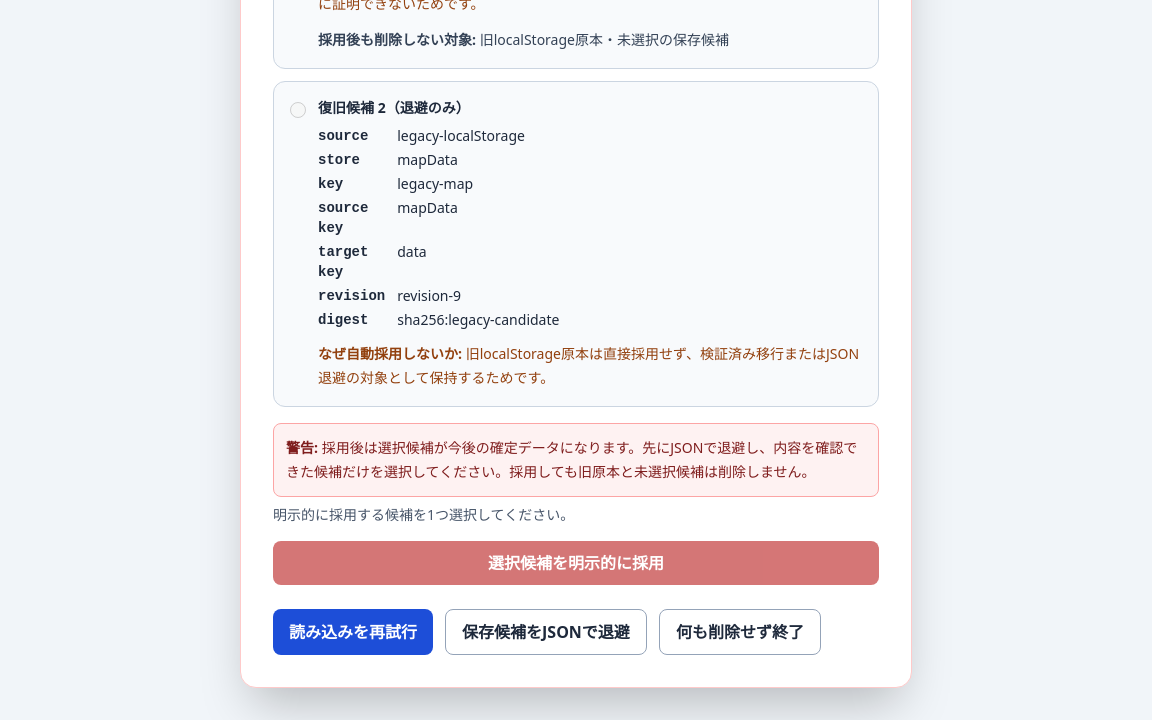
PersistenceRecoveryScreen › 何も削除せず終了してもblocking画面を保ち、タブを閉じる案内だけを示す
(page scrolled)
Click the button "何も削除せず終了": [740, 632] box top-left (659, 609), bottom-right (821, 655)
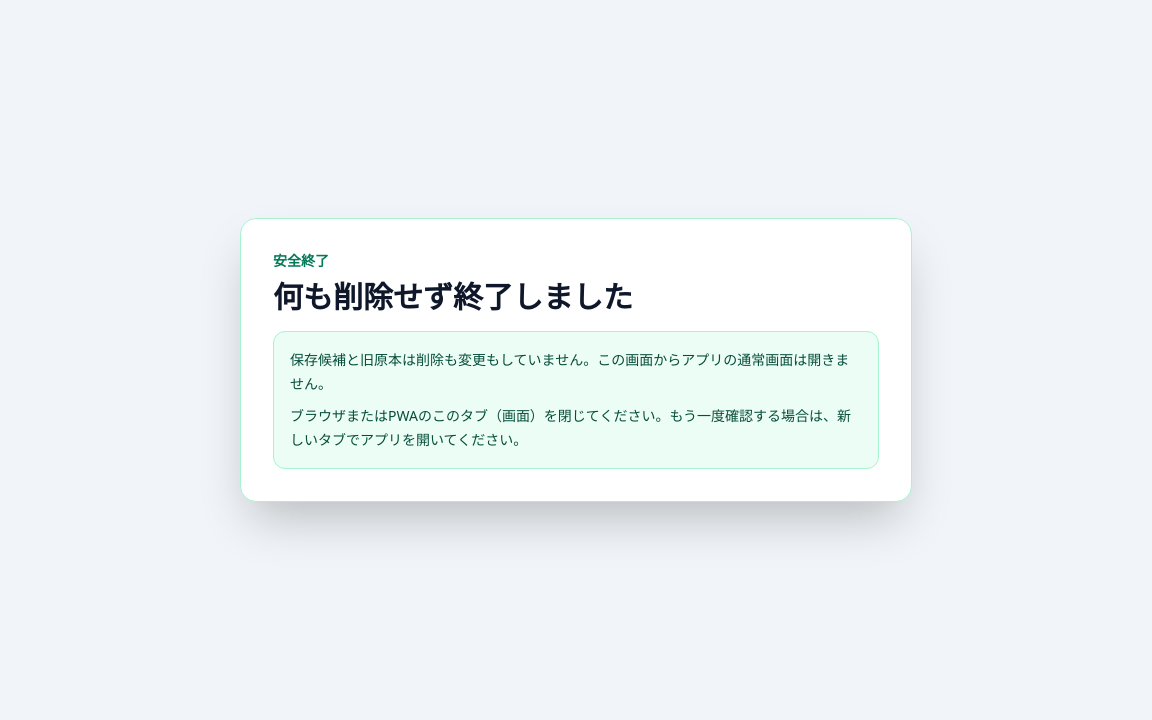
expect the element that starts with "安全終了" shows "保存候補と旧原本は削除も変更もしていません": met, box top-left (290, 350), bottom-right (849, 393)
expect the element that starts with "安全終了" shows "このタブ（画面）を閉じてください": met, box top-left (290, 406), bottom-right (851, 449)
expect the button "読み込みを再試行" is gone: met
